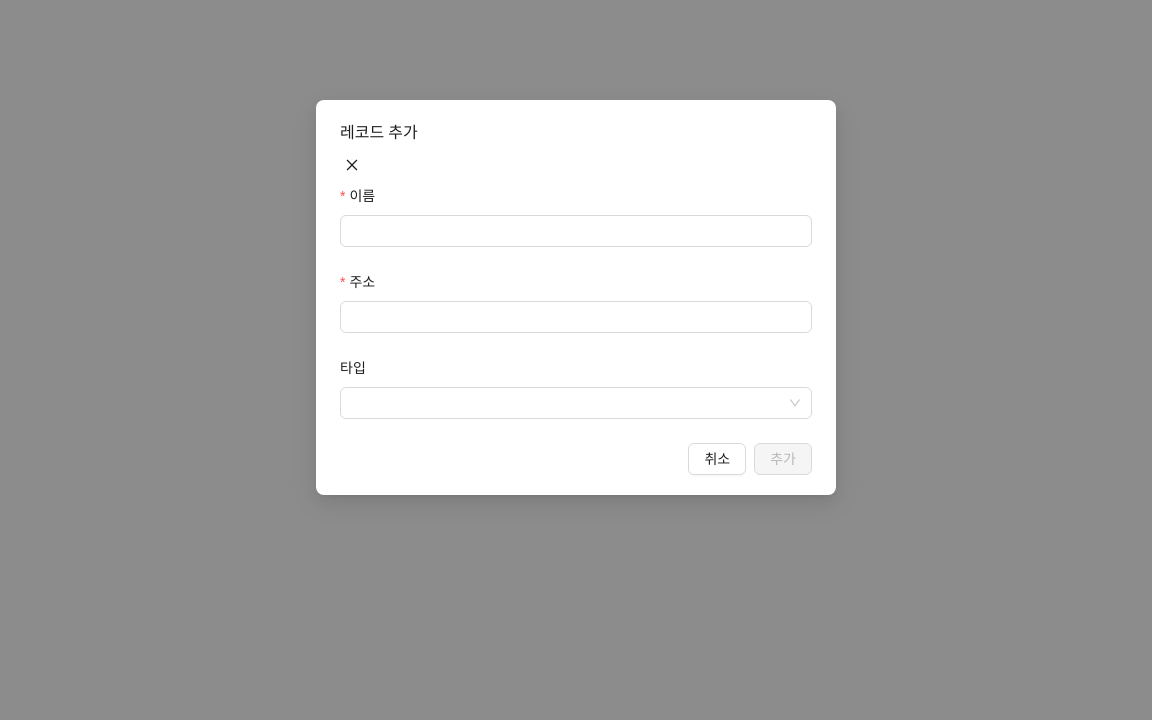
Test: <RecordFormModal /> › 필수 필드가 비워져 있게 되면 에러 메시지가 표시된다.
Type "John Doe" into the field labelled "이름".
click(576, 230); type("John Doe")  # box [340, 214, 812, 246]
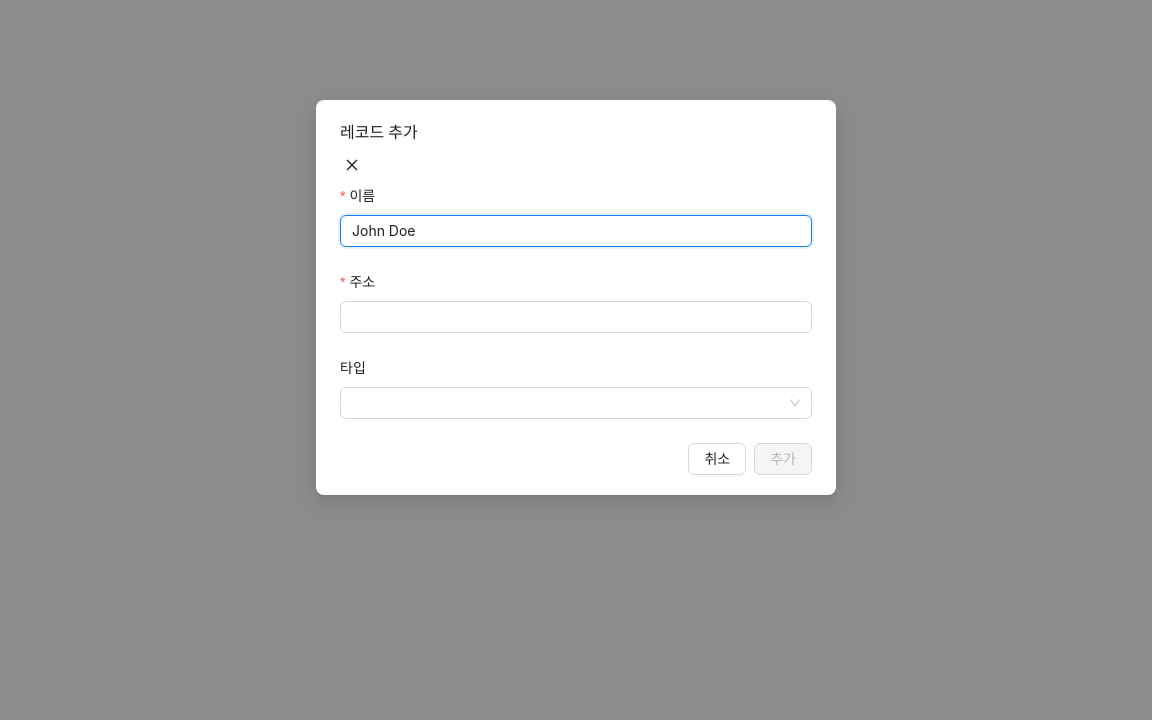
Clear the field labelled "이름" at (576, 230), box [340, 214, 812, 246]
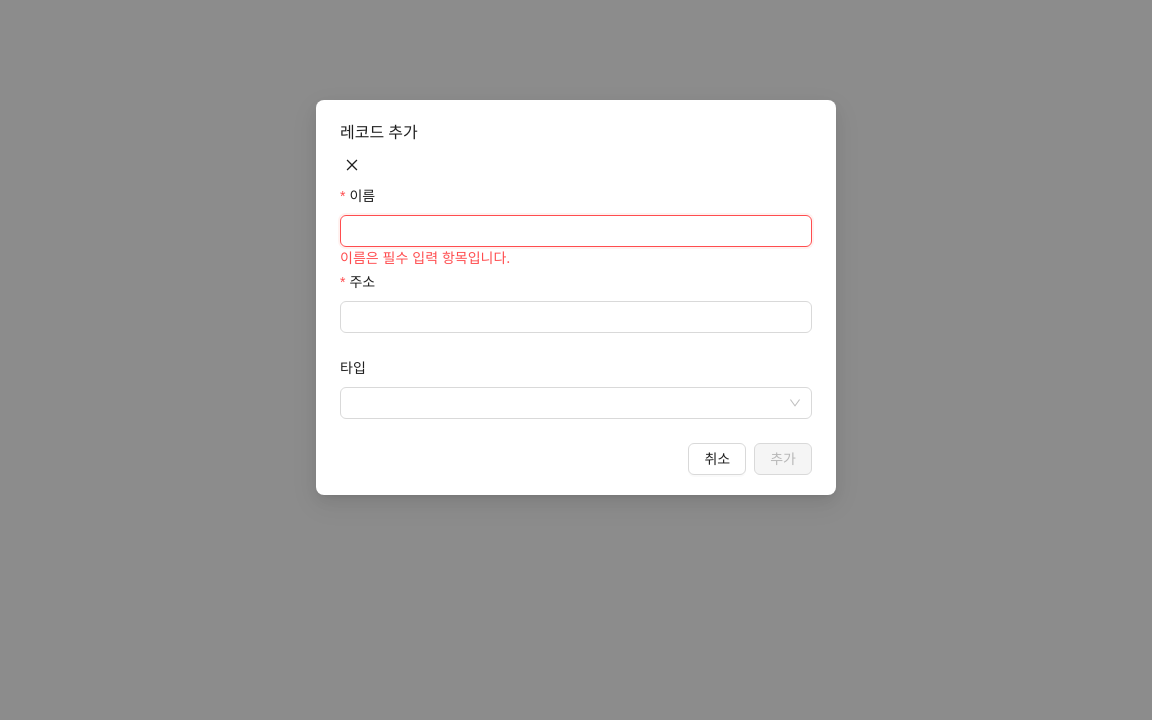
expect the button "추가" is disabled: met, box [754, 442, 812, 474]
expect the text "이름은 필수 입력 항목입니다." is shown: met, box [340, 248, 510, 266]
